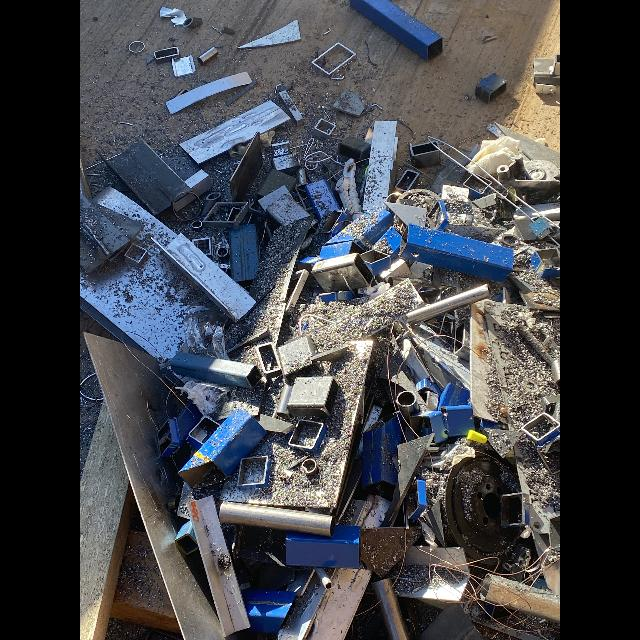Aluminium: (496, 154, 560, 200), (160, 7, 187, 25)
Copper: (418, 546, 551, 621), (486, 552, 548, 596), (429, 555, 472, 603), (476, 601, 538, 632), (503, 606, 560, 634), (469, 575, 519, 605), (434, 566, 476, 601), (446, 568, 473, 597), (463, 573, 476, 597), (430, 564, 462, 573), (492, 628, 511, 640), (513, 605, 526, 614), (511, 621, 523, 627), (507, 614, 512, 626), (476, 587, 482, 595)
Ferrous Metal: (84, 332, 234, 640), (426, 136, 560, 230), (471, 287, 556, 413), (151, 233, 256, 323), (443, 454, 524, 564), (188, 496, 250, 635), (180, 100, 290, 164), (179, 409, 267, 486), (401, 223, 513, 282), (107, 141, 190, 215), (333, 404, 383, 519), (349, 0, 442, 60), (471, 350, 540, 430), (379, 433, 435, 528), (308, 568, 371, 640), (513, 441, 560, 533), (80, 192, 130, 273), (219, 502, 333, 537), (398, 284, 491, 325), (169, 352, 260, 389), (285, 525, 361, 569), (488, 122, 560, 168), (362, 413, 405, 487), (359, 527, 420, 577), (278, 578, 325, 640), (332, 207, 393, 249), (311, 253, 373, 292), (283, 376, 339, 418), (242, 589, 295, 633), (394, 546, 437, 599), (372, 579, 409, 640), (420, 605, 484, 640), (230, 132, 262, 201), (235, 526, 286, 567), (258, 186, 309, 226), (277, 334, 319, 381), (94, 203, 144, 241), (338, 494, 391, 529), (238, 20, 301, 49), (229, 224, 259, 282), (363, 158, 396, 209), (336, 158, 362, 221), (515, 325, 553, 367), (311, 42, 356, 76), (397, 368, 431, 412), (305, 180, 340, 221), (409, 410, 448, 445), (288, 419, 328, 453), (430, 158, 466, 194), (200, 202, 249, 228), (481, 429, 523, 459), (523, 588, 559, 623), (521, 414, 559, 447), (284, 269, 309, 317), (237, 456, 272, 489), (178, 400, 203, 445), (256, 169, 296, 197), (227, 329, 270, 355), (255, 563, 296, 590), (441, 405, 475, 437), (189, 415, 221, 449), (446, 225, 505, 243), (500, 492, 529, 528), (386, 202, 427, 227), (256, 342, 283, 378), (371, 121, 398, 157), (475, 73, 507, 103), (319, 237, 362, 259), (426, 501, 446, 547), (469, 605, 504, 631), (530, 249, 560, 279), (438, 382, 470, 410), (175, 520, 198, 557), (278, 90, 302, 125), (520, 291, 560, 312), (333, 90, 364, 117), (338, 137, 371, 162), (489, 575, 530, 595), (410, 141, 440, 168), (360, 250, 391, 276), (158, 419, 179, 457), (226, 80, 257, 105), (185, 170, 213, 197), (379, 258, 410, 282), (258, 414, 295, 434), (309, 344, 350, 362), (320, 210, 348, 236), (486, 583, 518, 605), (287, 570, 314, 596), (425, 200, 448, 230), (396, 189, 441, 204), (463, 174, 490, 199), (454, 134, 478, 160), (199, 192, 221, 220), (275, 385, 293, 417), (531, 202, 560, 221), (394, 169, 419, 191), (273, 154, 300, 174), (529, 216, 552, 239), (514, 220, 537, 242), (414, 379, 443, 396), (313, 118, 336, 139), (154, 47, 180, 64), (318, 291, 354, 303), (472, 193, 498, 209), (192, 238, 213, 257), (549, 515, 560, 551), (298, 257, 324, 272), (395, 390, 416, 408), (448, 149, 470, 166), (198, 47, 218, 65), (272, 141, 289, 162), (314, 568, 331, 589), (421, 390, 438, 411), (541, 394, 560, 410), (544, 412, 560, 431), (448, 548, 468, 563), (498, 235, 521, 247), (302, 458, 317, 476), (533, 577, 550, 592), (186, 16, 203, 29), (551, 360, 560, 383), (513, 208, 529, 220), (297, 168, 307, 185), (217, 247, 229, 261), (274, 83, 289, 94), (493, 610, 511, 619), (191, 220, 203, 230), (487, 604, 495, 616), (400, 199, 415, 205)
Galvanized Steel: (80, 187, 228, 361)
Stainless Steel: (166, 71, 252, 115), (172, 55, 195, 78)
